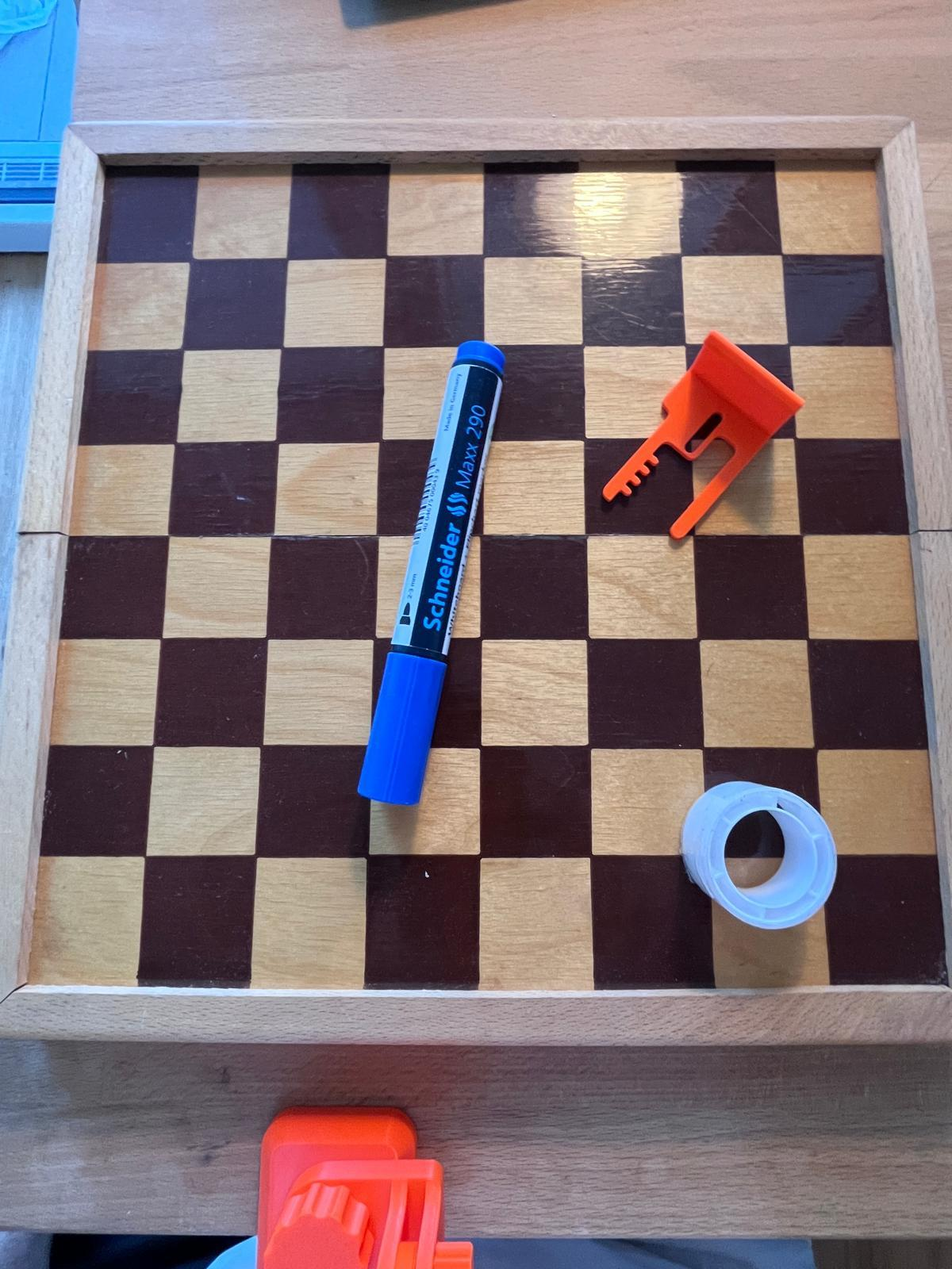clipper: (595, 333, 792, 542)
marker: (357, 341, 509, 807)
tape: (681, 777, 839, 939)
